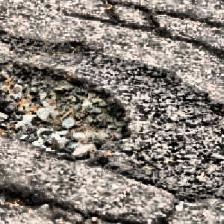pothole: (0, 60, 132, 168), (0, 183, 48, 209)
